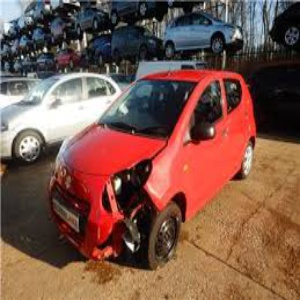bumper: (89, 212, 154, 264)
head_lights: (100, 159, 155, 204)
